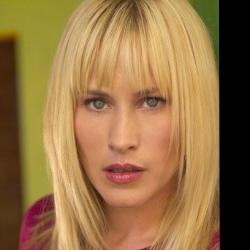face: (33, 2, 223, 247)
